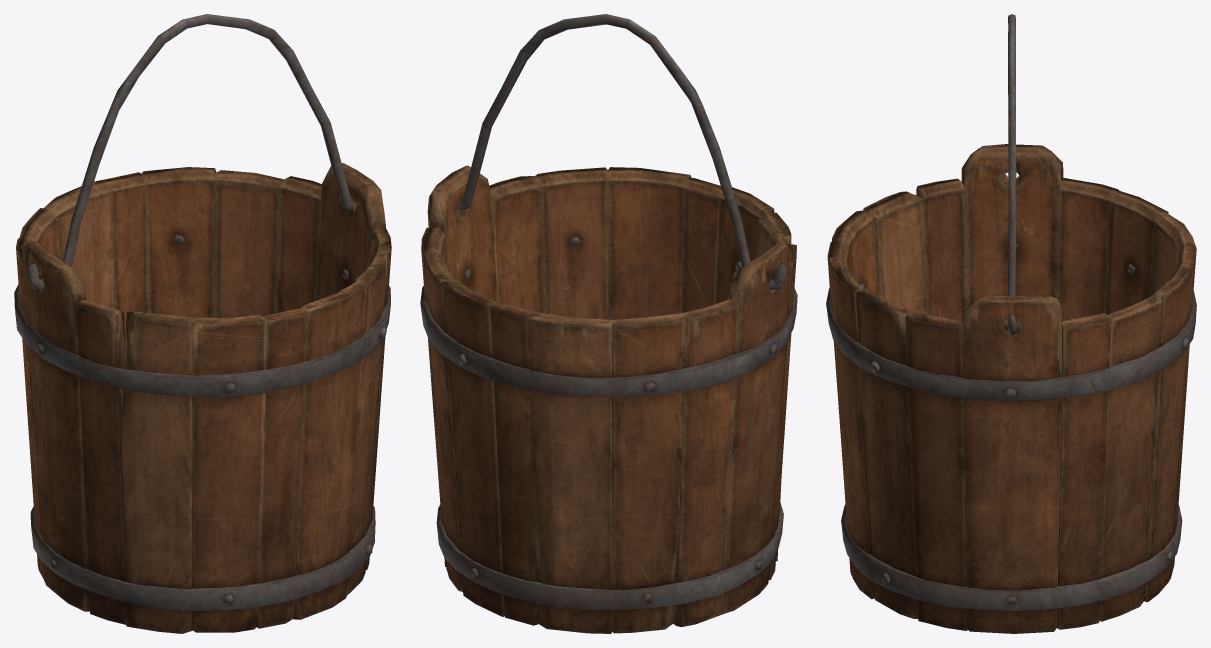
File: WaterBucket.glb
3 views of the same model, side by side, from view 1: azimuth 30°, elevation 25°; view 2: azimuth 150°, elevation 25°; view 3: azimuth 270°, elevation 25° (orthographic).
Visible parts, largest first — view 1: WaterBucket; view 2: WaterBucket; view 3: WaterBucket.
Boxes of the visible parts, <box> form: WaterBucket: <box>14,14,391,633</box>; WaterBucket: <box>420,14,797,633</box>; WaterBucket: <box>826,14,1196,633</box>.
Bounding box in the file's own units: 0.3672 × 0.5493 × 0.3414.
1 material, 1 textured.
